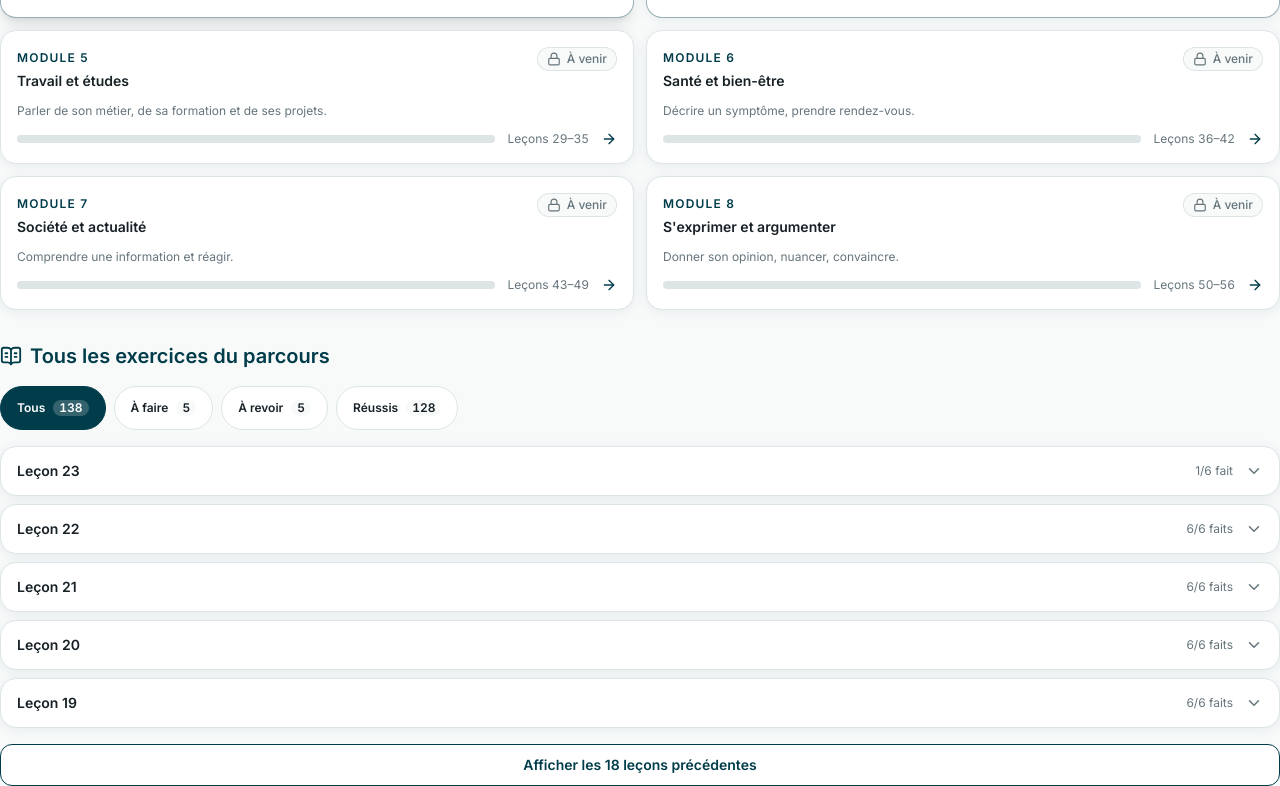
Test: Exercices du parcours (US42) › filtre tous les exercices du parcours par statut
(page scrolled)
Expected: the heading "Tous les exercices du parcours" is shown, [0, 344, 330, 368]
Click the button "À revoir 5" at [275, 408], box [221, 386, 328, 430]
(page scrolled)
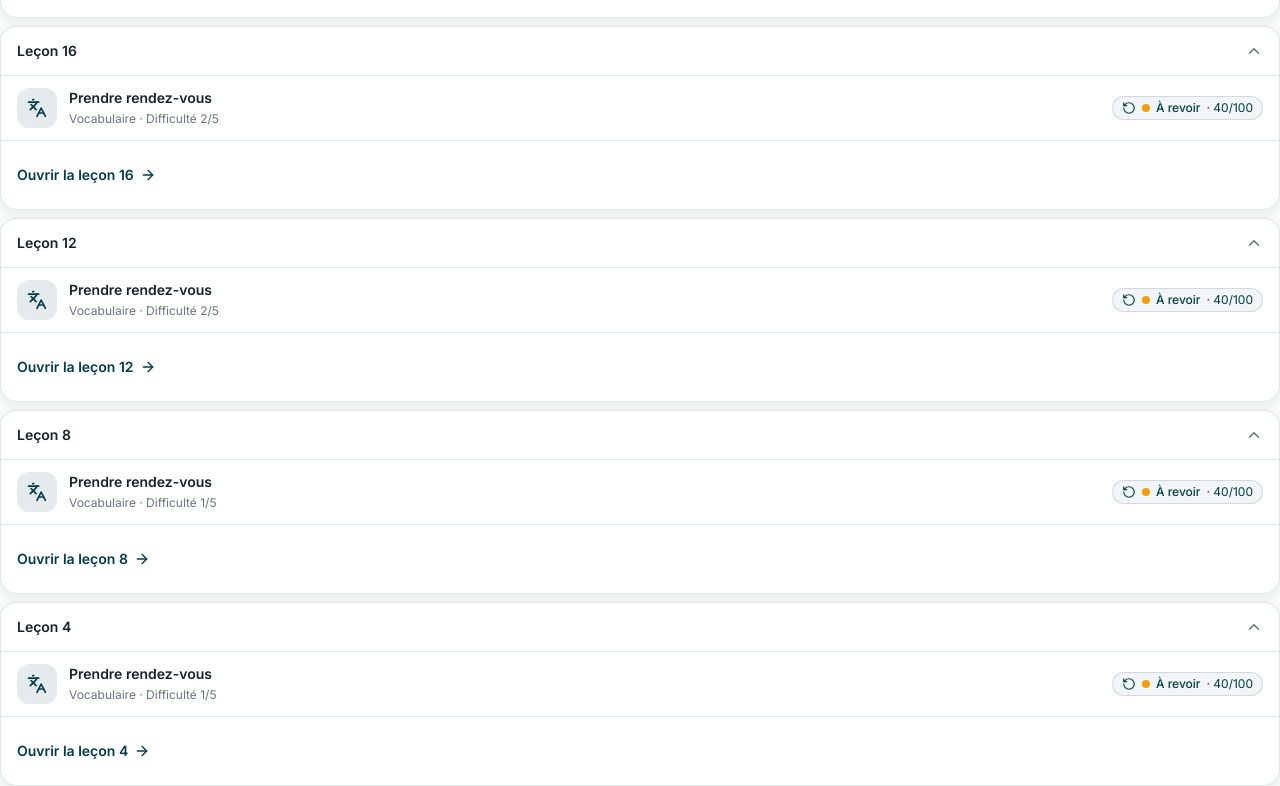
Expected: the 2nd list item shows "À revoir", [1156, 100, 1200, 115]
Expected: the 3rd list item shows "À revoir", [1156, 292, 1200, 307]
Expected: the 4th list item shows "À revoir", [1156, 484, 1200, 499]
